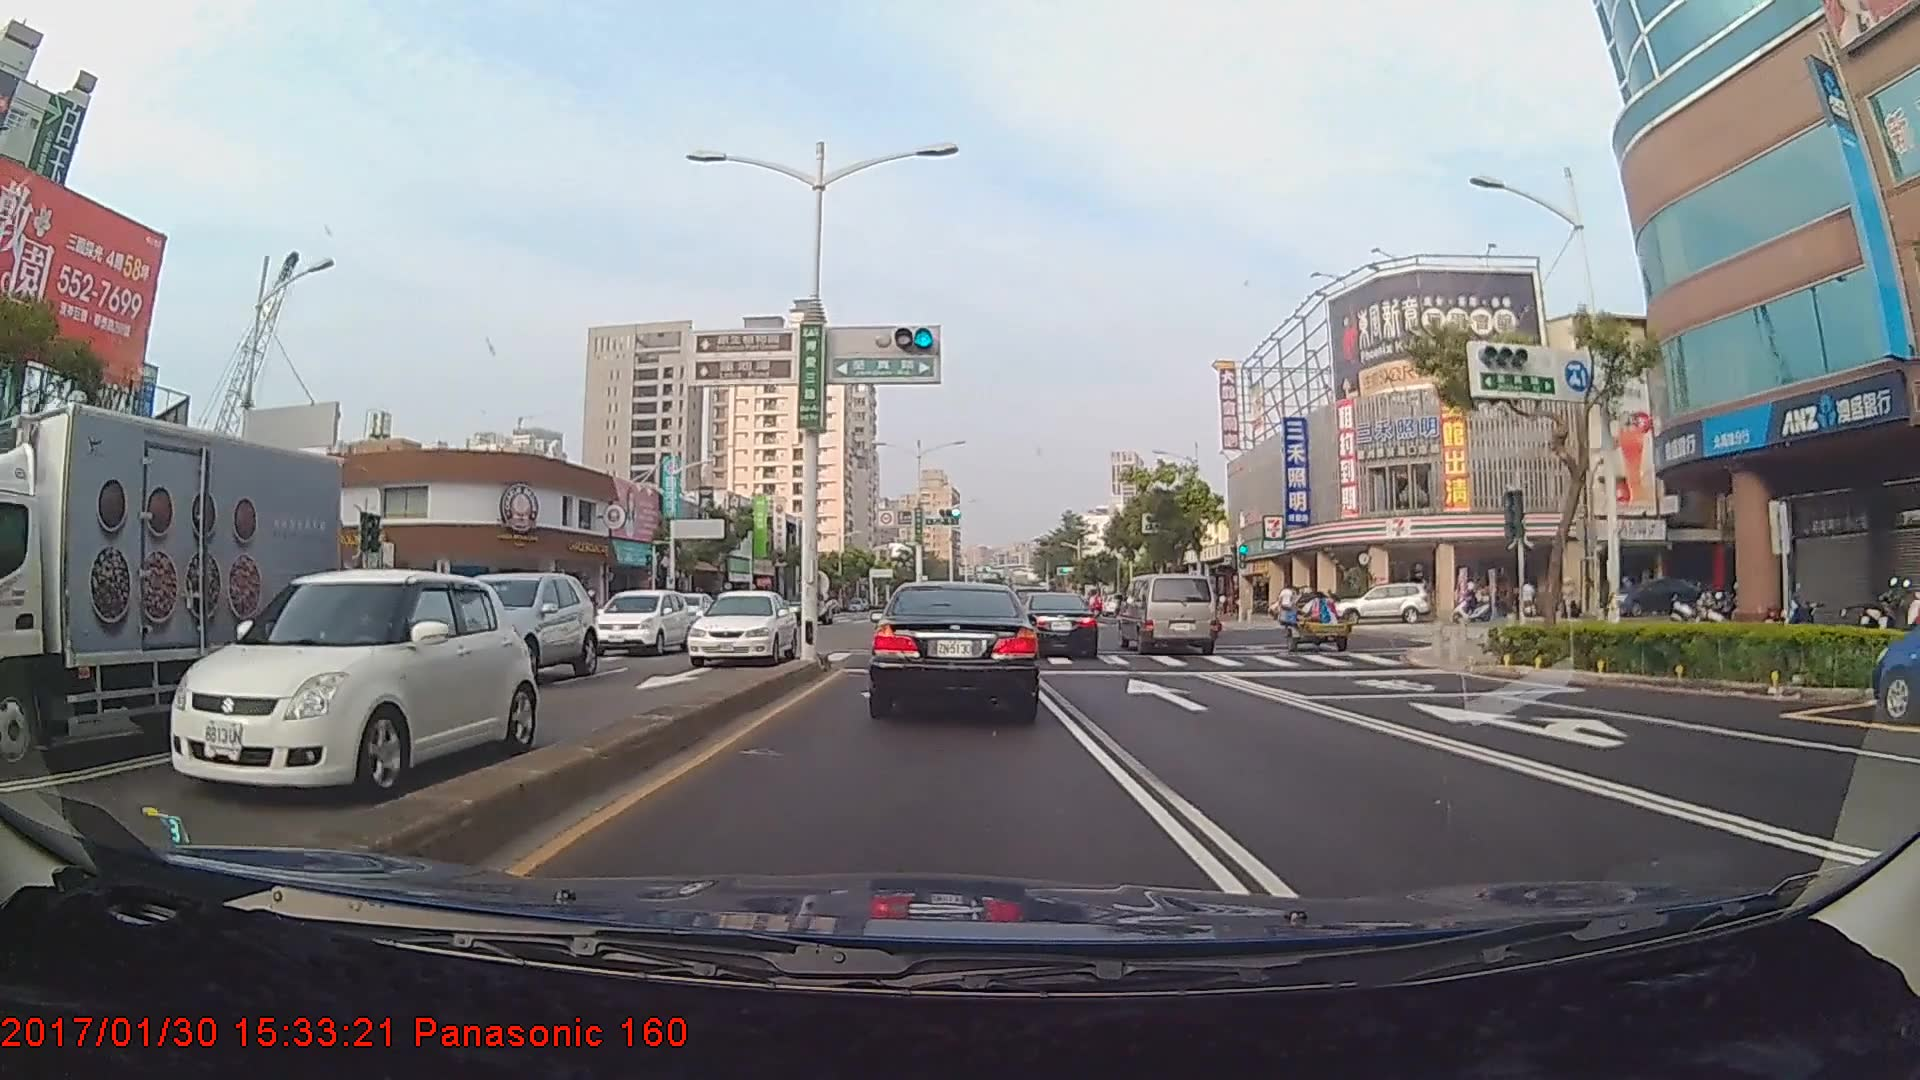vehicle: (0, 404, 334, 752), (131, 556, 500, 816), (872, 576, 1040, 720), (411, 564, 593, 682), (678, 583, 800, 666), (1120, 574, 1222, 655), (580, 583, 686, 655), (1865, 585, 1920, 719), (1015, 592, 1100, 657), (1338, 579, 1435, 626)
